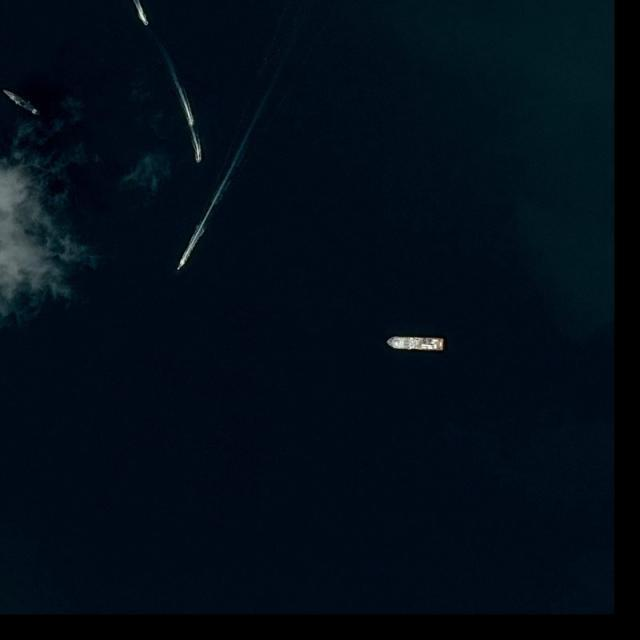ship: (0, 86, 42, 117), (385, 335, 444, 350), (176, 262, 184, 271), (144, 21, 149, 25), (190, 122, 194, 127), (198, 158, 201, 163)
